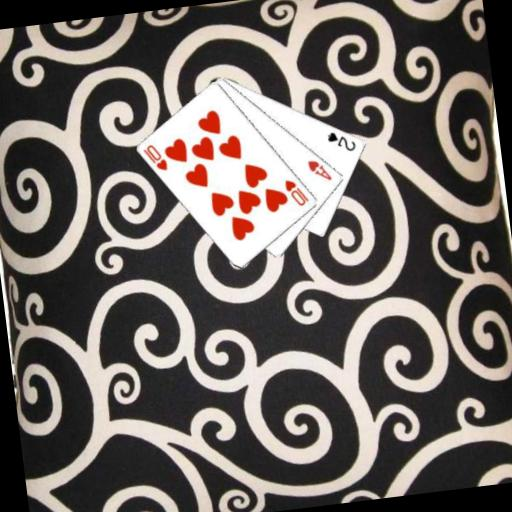10H: (282, 175, 312, 210), (140, 140, 170, 175)
2S: (324, 127, 359, 156)
AH: (304, 155, 334, 185)
